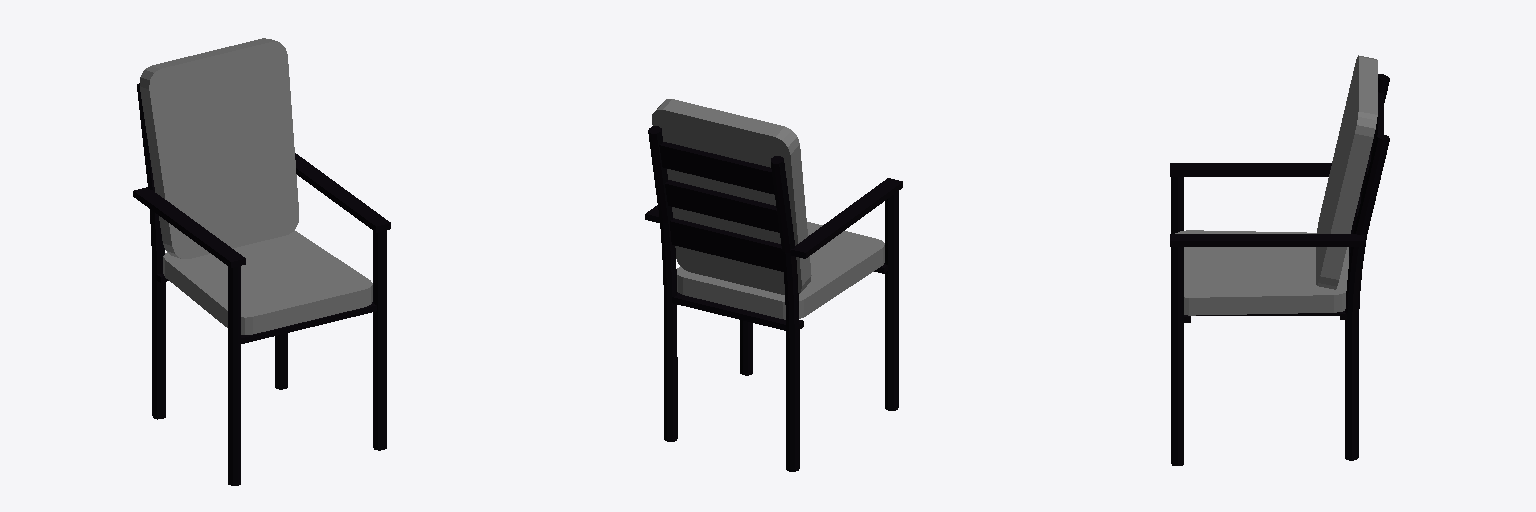
Rendered from GardenChair.obj.
3 renders of one model, left to right at view 1: azimuth 30°, elevation 25°; view 2: azimuth 150°, elevation 25°; view 3: azimuth 270°, elevation 25°, orthographic.
Parts seen in each view (by area): view 1: Chair back, Chair seat, Chair Leg9, Chair Leg6, Chair Leg8, Chair arm1, arm Chair, Chair buttslat3, Chair Leg7; view 2: Chair back, Chair seat, Chair Leg9, Chair Leg7, Chair backslat2, Chair Leg8, Chair backslat, Chair backslat1, Chair arm1, Chair buttslat2, Chair Leg6; view 3: Chair seat, Chair back, Chair Leg7, Chair Leg6, arm Chair, Chair arm1, Chair Leg8.
Boxes of the visible parts, x1=… form: Chair back: x1=140, y1=38, x2=298, y2=258; Chair seat: x1=163, y1=230, x2=372, y2=334; Chair Leg9: x1=137, y1=83, x2=165, y2=419; Chair Leg6: x1=373, y1=230, x2=386, y2=450; Chair Leg8: x1=228, y1=266, x2=240, y2=485; Chair arm1: x1=133, y1=187, x2=245, y2=267; arm Chair: x1=295, y1=153, x2=390, y2=232; Chair buttslat3: x1=241, y1=302, x2=376, y2=343; Chair Leg7: x1=275, y1=333, x2=287, y2=389; Chair back: x1=652, y1=99, x2=811, y2=294; Chair seat: x1=677, y1=222, x2=884, y2=319; Chair Leg9: x1=771, y1=156, x2=799, y2=471; Chair Leg7: x1=648, y1=126, x2=677, y2=441; Chair backslat2: x1=670, y1=218, x2=783, y2=271; Chair Leg8: x1=885, y1=191, x2=898, y2=410; Chair backslat: x1=659, y1=142, x2=774, y2=194; Chair backslat1: x1=665, y1=180, x2=779, y2=232; Chair arm1: x1=791, y1=178, x2=902, y2=258; Chair buttslat2: x1=672, y1=292, x2=803, y2=332; Chair Leg6: x1=740, y1=320, x2=752, y2=375; Chair seat: x1=1175, y1=230, x2=1348, y2=315; Chair back: x1=1316, y1=55, x2=1377, y2=289; Chair Leg7: x1=1345, y1=134, x2=1389, y2=460; Chair Leg6: x1=1171, y1=247, x2=1183, y2=465; arm Chair: x1=1170, y1=234, x2=1364, y2=246; Chair arm1: x1=1170, y1=163, x2=1331, y2=176; Chair Leg8: x1=1171, y1=177, x2=1183, y2=233.
Bounding box in the file's own units: 1.06 × 2.17 × 1.26.